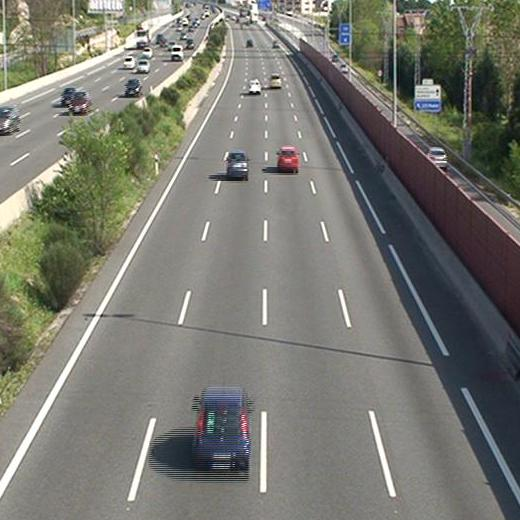car: (193, 390, 250, 470), (227, 151, 248, 179), (277, 146, 297, 170), (247, 79, 261, 94), (268, 74, 281, 87)
